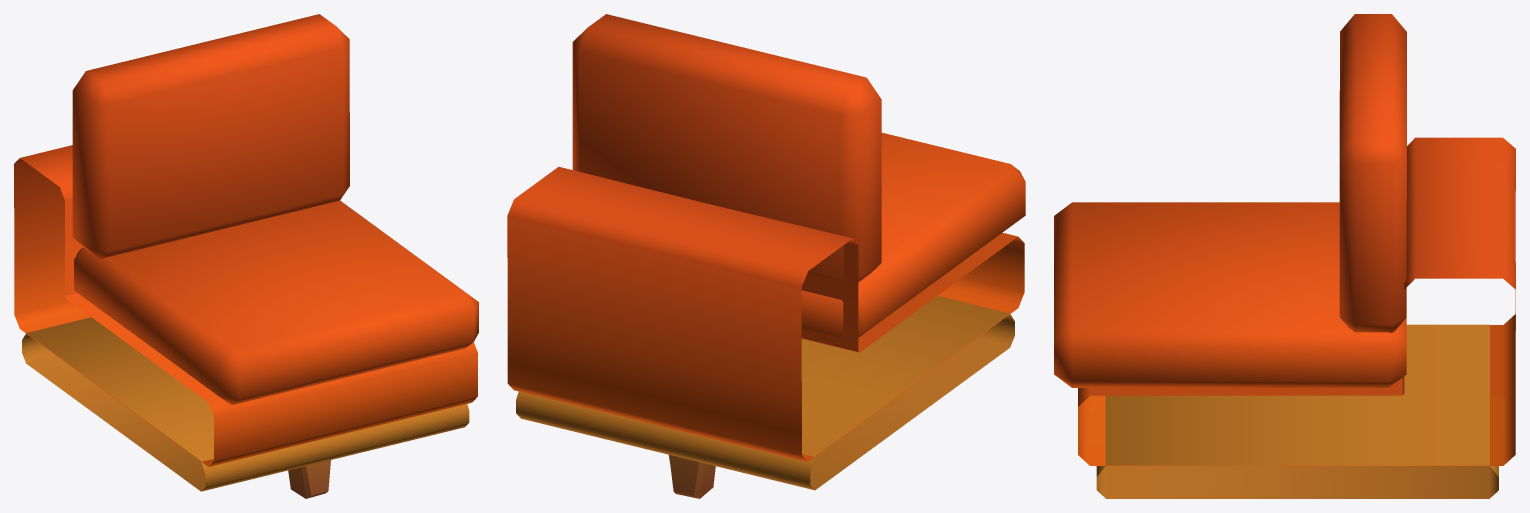
Rendered from Sofa_M.fbx.
3 renders of one model, left to right at view 1: azimuth 30°, elevation 25°; view 2: azimuth 150°, elevation 25°; view 3: azimuth 270°, elevation 25°, orthographic. The views are drawn at different scales.
Visible parts, largest first — view 1: LargestSofa._Middle; view 2: LargestSofa._Middle; view 3: LargestSofa._Middle.
Boxes of the visible parts, <box> form: LargestSofa._Middle: <box>14,14,478,498</box>; LargestSofa._Middle: <box>507,14,1025,498</box>; LargestSofa._Middle: <box>1054,14,1515,498</box>.
Size of the model in its own units: 3 by 4 by 4.15.
